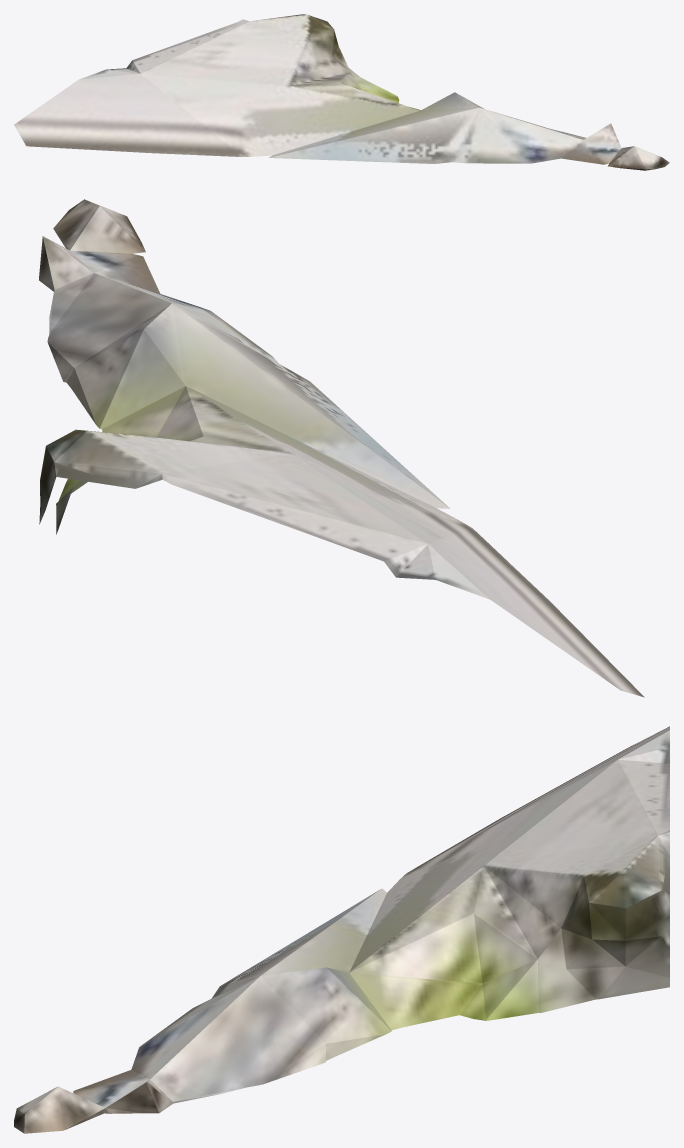
3 renders of one model, top to bottom at view 1: azimuth 30°, elevation 25°; view 2: azimuth 150°, elevation 25°; view 3: azimuth 270°, elevation 25°, orthographic. The views are drawn at different scales.
Bounding box in the file's own units: 2.27 × 0.2984 × 1.63.
1 material, 1 textured.
